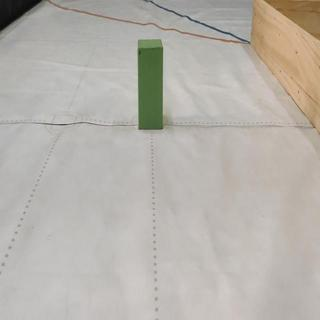greenbox: (136, 37, 164, 131)
